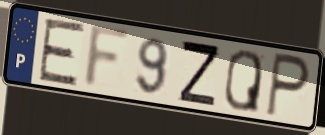9: (133, 36, 174, 97)
E: (36, 17, 87, 88)
F: (80, 23, 134, 92)
P: (263, 50, 312, 121)
Q: (222, 48, 264, 115)
Z: (177, 38, 221, 109)
